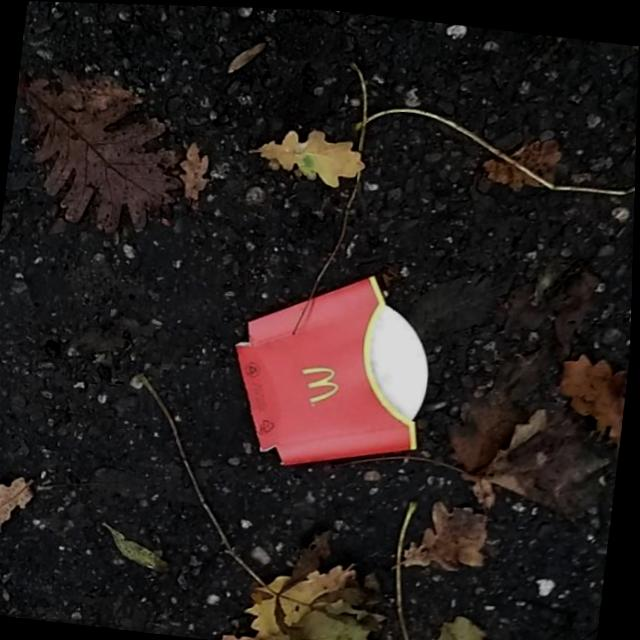Paper: (222, 258, 445, 481)
